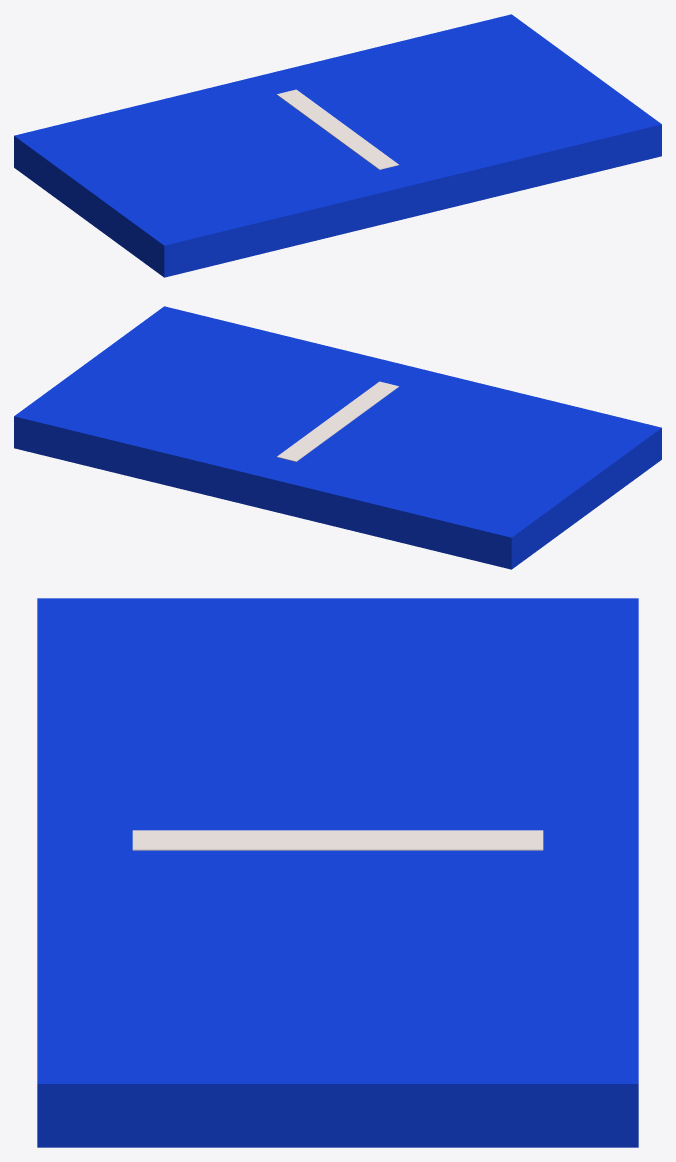
Rendered from duong pho.FBX.
3 renders of one model, top to bottom at view 1: azimuth 30°, elevation 25°; view 2: azimuth 150°, elevation 25°; view 3: azimuth 270°, elevation 25°, orthographic. The views are drawn at different scales.
Parts seen in each view (by area): view 1: Box1897; view 2: Box1897; view 3: Box1897.
Boxes of the visible parts, x1=… form: Box1897: x1=14, y1=14, x2=661, y2=277; Box1897: x1=14, y1=306, x2=661, y2=569; Box1897: x1=37, y1=598, x2=638, y2=1147.
Size of the model in its own units: 14.22 by 0.888 by 7.44.
